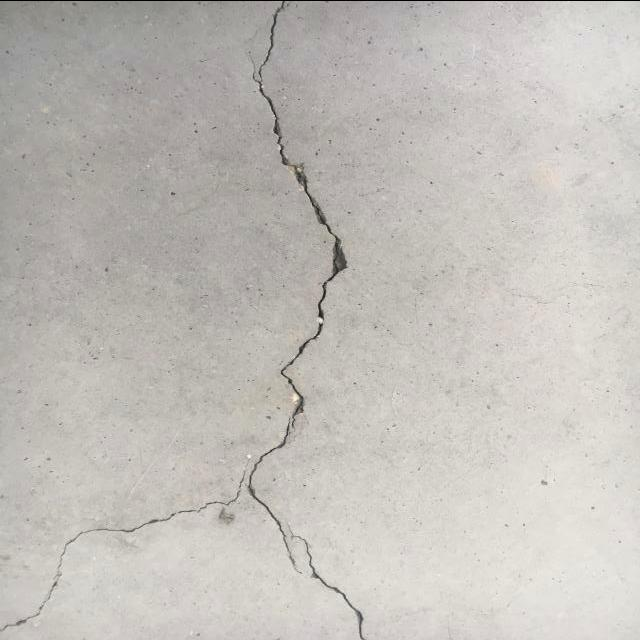SurfaceCrack: (189, 0, 381, 639)
